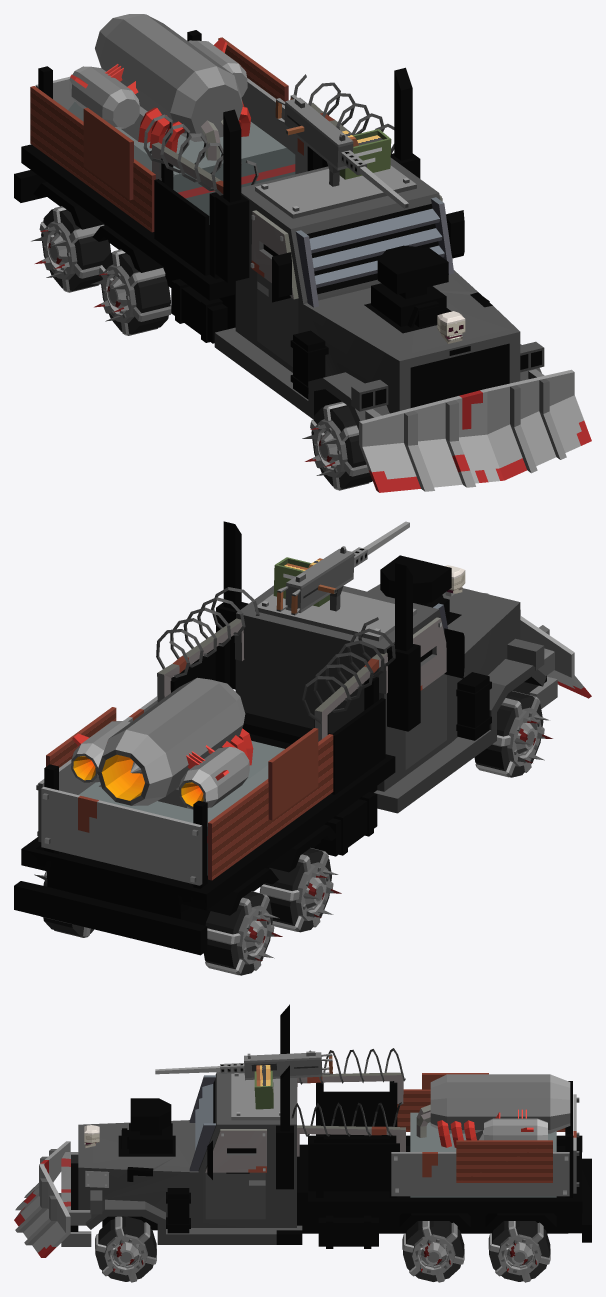
Rendered from 08_SA_Veh_WarTruck.glb.
3 renders of one model, top to bottom at view 1: azimuth 30°, elevation 25°; view 2: azimuth 150°, elevation 25°; view 3: azimuth 270°, elevation 25°, orthographic. The views are drawn at different scales.
Visible parts, largest first — view 1: Body, Nitro, armor_5, armor_4_part_C_R 3, armor_2_part_B 8, gun, armor_3_part_C 1, Wheel_B_1gr (×3), armor_4_part_C_L 3, Wheel_B_3gr (×3), armor_4_part_B_R 7, SA_Veh_WarTruck_Wheel_BR01 (+5 smaller); view 2: Body, Nitro, armor_4_part_A 5, armor_4_part_C_R 3, gun, Wheel_B_1gr (×3), armor_4_part_B_L 7, armor_4_part_B_R 7, armor_3_part_C 1, Wheel_B_3gr (×3), armor_4_part_C_L 3, SA_Veh_WarTruck_Wheel_BR02 (+5 smaller); view 3: Body, Nitro, armor_4_part_C_L 3, Wheel_B_1gr (×3), armor_5, gun, Wheel_B_3gr (×3), armor_3_part_B_L 8, armor_4_part_B_L 7, armor_3_part_C 1, armor_4_part_B_R 7, armor_2_part_B 8 (+7 smaller).
Boxes of the visible parts, x1,y1,x2,y2 form: Body: [14, 30, 544, 429]; Nitro: [68, 14, 295, 224]; armor_5: [359, 369, 591, 492]; armor_4_part_C_R 3: [30, 86, 155, 232]; armor_2_part_B 8: [295, 197, 454, 307]; gun: [275, 94, 408, 208]; armor_3_part_C 1: [255, 165, 416, 218]; Wheel_B_1gr (×3): [43, 221, 347, 477]; armor_4_part_C_L 3: [218, 37, 307, 174]; Wheel_B_3gr (×3): [39, 206, 369, 490]; armor_4_part_B_R 7: [143, 114, 258, 195]; SA_Veh_WarTruck_Wheel_BR01: [100, 252, 170, 334]; Body: [14, 521, 546, 955]; Nitro: [71, 677, 284, 875]; armor_4_part_A 5: [41, 787, 202, 885]; armor_4_part_C_R 3: [208, 728, 333, 880]; gun: [273, 521, 409, 615]; Wheel_B_1gr (×3): [237, 707, 541, 964]; armor_4_part_B_L 7: [156, 587, 259, 702]; armor_4_part_B_R 7: [302, 617, 395, 741]; armor_3_part_C 1: [255, 591, 416, 641]; Wheel_B_3gr (×3): [205, 691, 544, 975]; armor_4_part_C_L 3: [36, 696, 157, 842]; SA_Veh_WarTruck_Wheel_BR02: [203, 891, 272, 975]; Body: [70, 1004, 591, 1248]; Nitro: [410, 1074, 570, 1197]; armor_4_part_C_L 3: [391, 1140, 569, 1196]; Wheel_B_1gr (×3): [104, 1234, 541, 1275]; armor_5: [14, 1141, 70, 1257]; gun: [155, 1051, 332, 1109]; Wheel_B_3gr (×3): [95, 1216, 550, 1282]; armor_3_part_B_L 8: [205, 1129, 266, 1172]; armor_4_part_B_L 7: [291, 1102, 405, 1156]; armor_3_part_C 1: [231, 1073, 280, 1120]; armor_4_part_B_R 7: [297, 1048, 405, 1103]; armor_2_part_B 8: [189, 1075, 215, 1171].
Size of what is drawn, in the model's own units: 4.54 by 5.5 by 13.59.
1 material, 1 textured.
